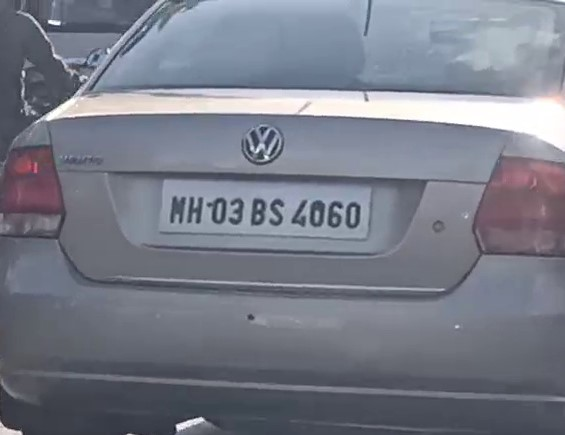MH03BS4060: (158, 178, 371, 239)
